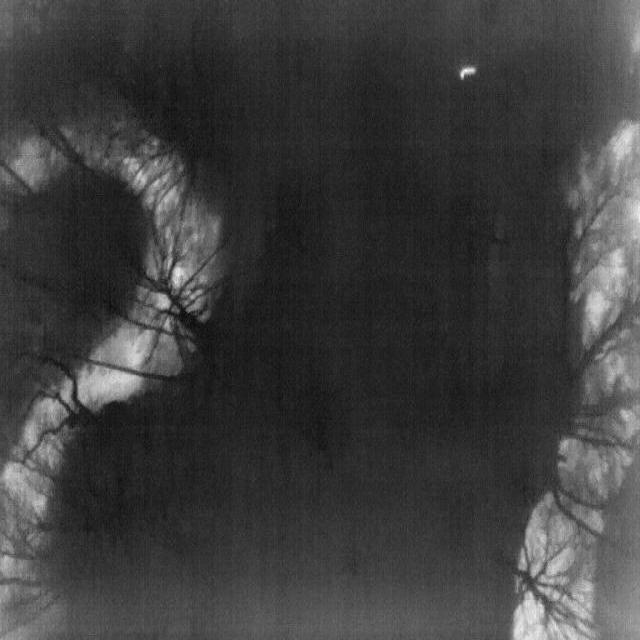deer: (460, 66, 478, 81)
